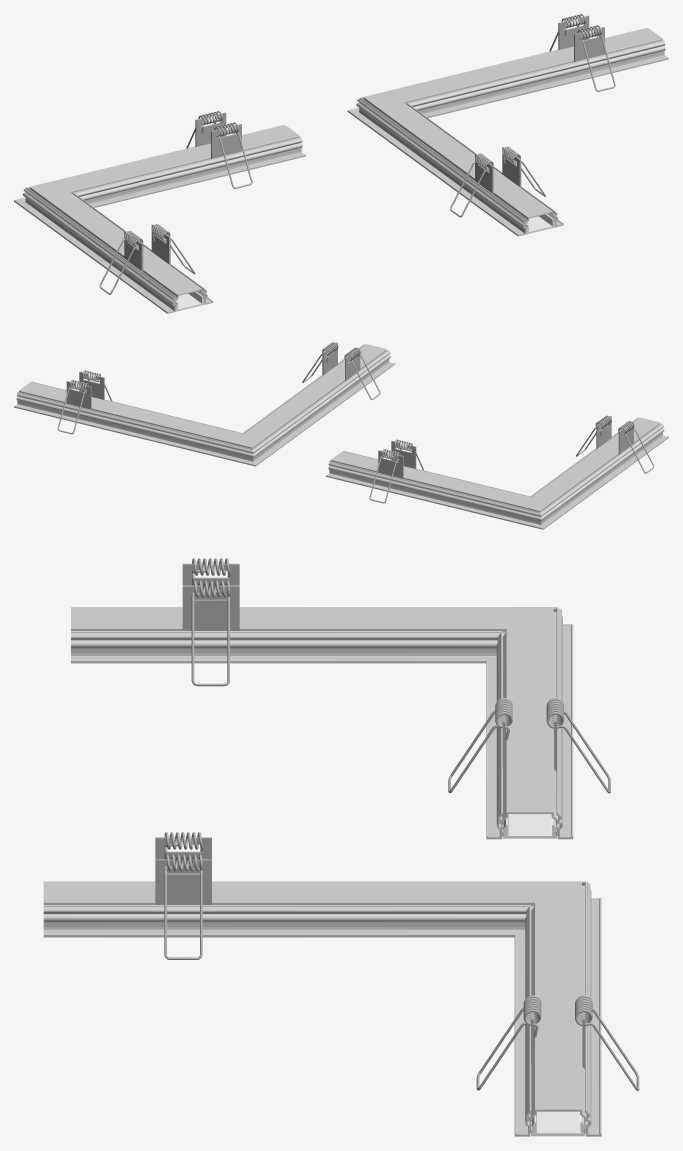
Rendered from Fit25SlimEmbutido-curva-direita-esquerda.glb.
3 renders of one model, top to bottom at view 1: azimuth 30°, elevation 25°; view 2: azimuth 150°, elevation 25°; view 3: azimuth 270°, elevation 25°, orthographic. The views are drawn at different scales.
Parts seen in each view (by area): view 1: 3DGeom-13, 3DGeom-14, 3DGeom-1, 3DGeom-2, 3DGeom-5 (×4), 3DGeom-17 (×3), 3DGeom-6 (×2), 3DGeom-18 (×2); view 2: 3DGeom-13, 3DGeom-1, 3DGeom-14, 3DGeom-2, 3DGeom-5 (×4), 3DGeom-17 (×4), 3DGeom-6 (×2), 3DGeom-18 (×2); view 3: 3DGeom-14, 3DGeom-2, 3DGeom-13, 3DGeom-1, 3DGeom-6 (×3), 3DGeom-18 (×3), 3DGeom-5 (×2), 3DGeom-17 (×2), 3DGeom-15, 3DGeom-3.
Part boxes in pixels (x1=…): 3DGeom-13: x1=348, y1=28, x2=668, y2=117; 3DGeom-14: x1=347, y1=97, x2=563, y2=236; 3DGeom-1: x1=15, y1=125, x2=305, y2=207; 3DGeom-2: x1=14, y1=187, x2=213, y2=313; 3DGeom-5 (×4): x1=124, y1=112, x2=241, y2=271; 3DGeom-17 (×3): x1=502, y1=15, x2=604, y2=187; 3DGeom-6 (×2): x1=99, y1=122, x2=252, y2=294; 3DGeom-18 (×2): x1=450, y1=25, x2=615, y2=217; 3DGeom-13: x1=14, y1=381, x2=255, y2=466; 3DGeom-1: x1=325, y1=451, x2=543, y2=529; 3DGeom-14: x1=242, y1=344, x2=395, y2=465; 3DGeom-2: x1=530, y1=417, x2=668, y2=529; 3DGeom-5 (×4): x1=378, y1=416, x2=633, y2=478; 3DGeom-17 (×4): x1=66, y1=342, x2=360, y2=409; 3DGeom-6 (×2): x1=369, y1=421, x2=654, y2=503; 3DGeom-18 (×2): x1=57, y1=347, x2=380, y2=434; 3DGeom-14: x1=43, y1=881, x2=600, y2=937; 3DGeom-2: x1=71, y1=607, x2=572, y2=663; 3DGeom-13: x1=514, y1=881, x2=601, y2=1136; 3DGeom-1: x1=486, y1=607, x2=573, y2=839; 3DGeom-6 (×3): x1=191, y1=580, x2=610, y2=793; 3DGeom-18 (×3): x1=164, y1=854, x2=639, y2=1090; 3DGeom-5 (×2): x1=182, y1=563, x2=239, y2=630; 3DGeom-17 (×2): x1=155, y1=837, x2=211, y2=904; 3DGeom-15: x1=531, y1=1111, x2=585, y2=1136; 3DGeom-3: x1=502, y1=814, x2=556, y2=838.
Size of the model in its own units: 0.5572 by 0.0407 by 0.2669.
Materials: 3 (1 with a texture image).
